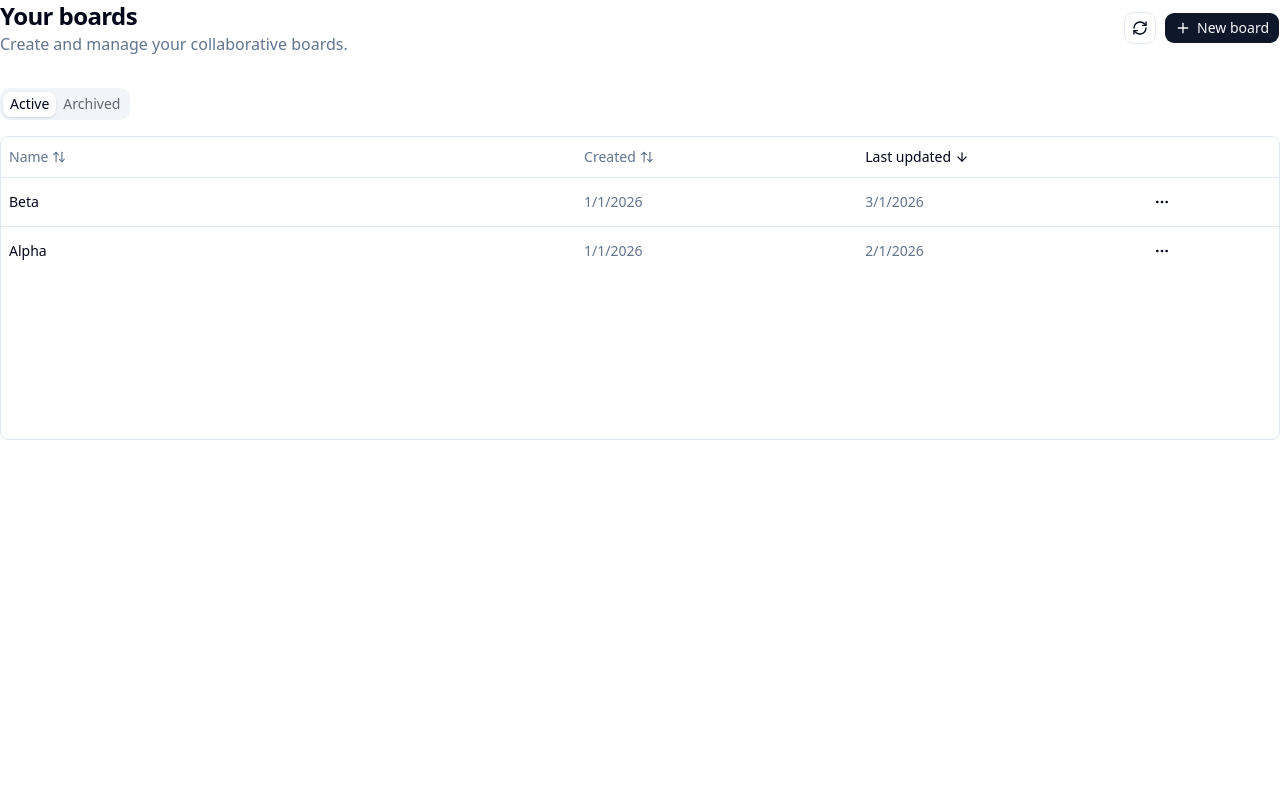
Test: DashboardPage integration › cancels the delete dialog without deleting
Expected: the button "Alpha" is shown, [9,240,568,260]
Click the button named "Board actions" in the row of "2/1/2026": (1162, 250) [1146,234,1178,266]
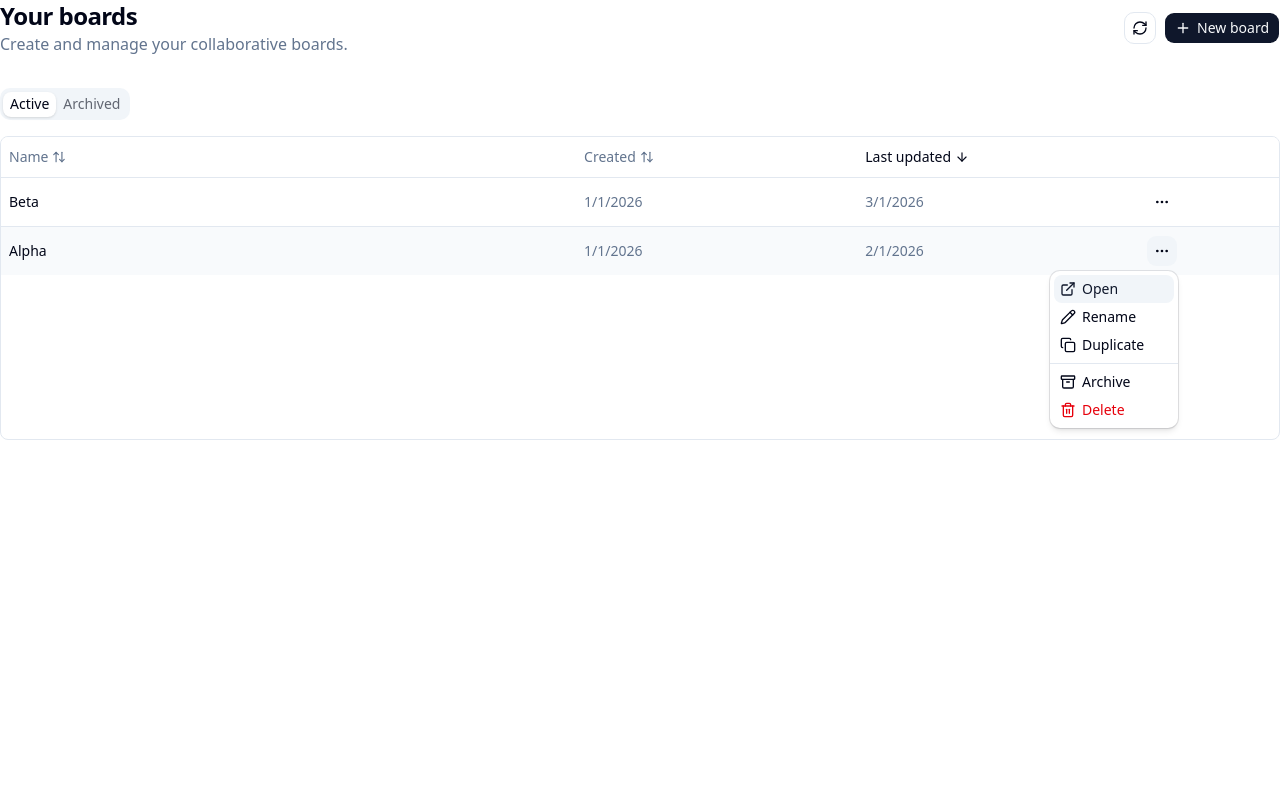
Result: the menu is shown at [1050,271,1178,428]
Click the menu item "Delete": (1092, 410) [1060,400,1125,419]
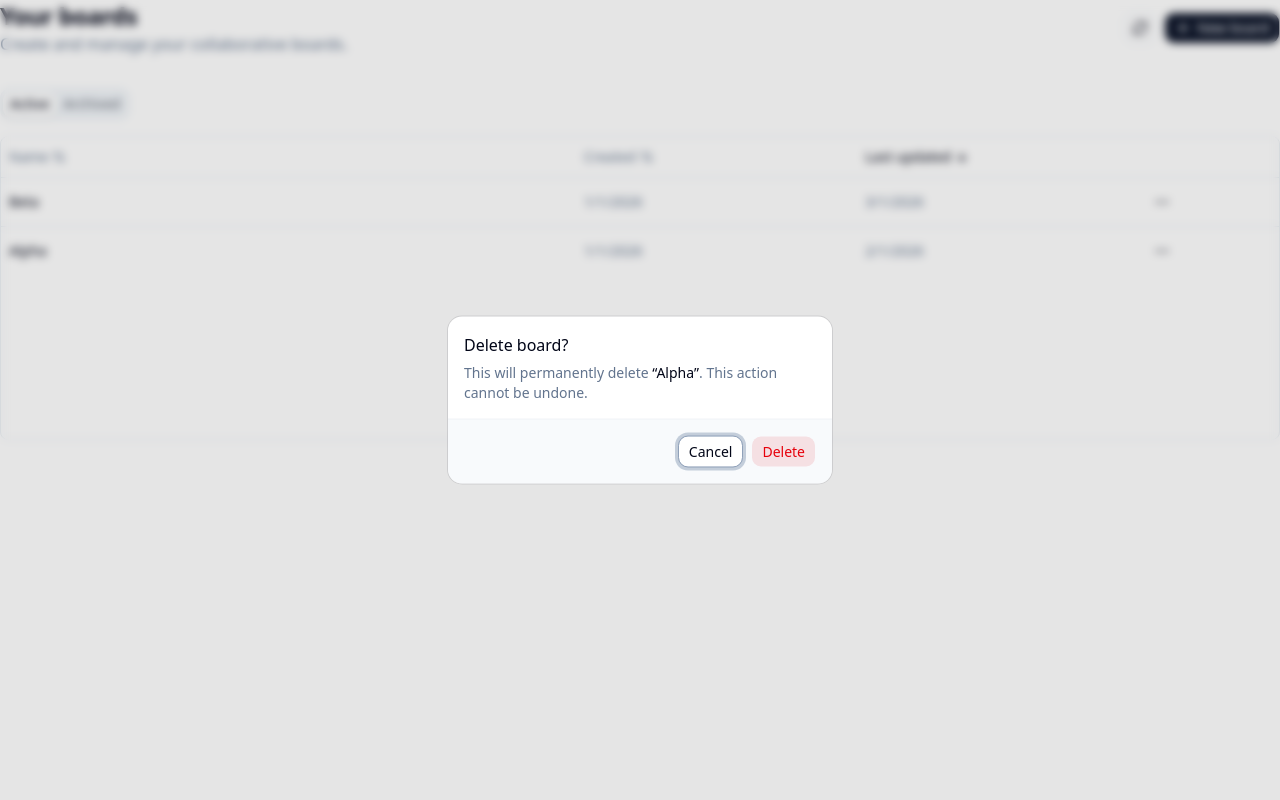
Click the button "Cancel": (711, 452) [678,436,743,468]
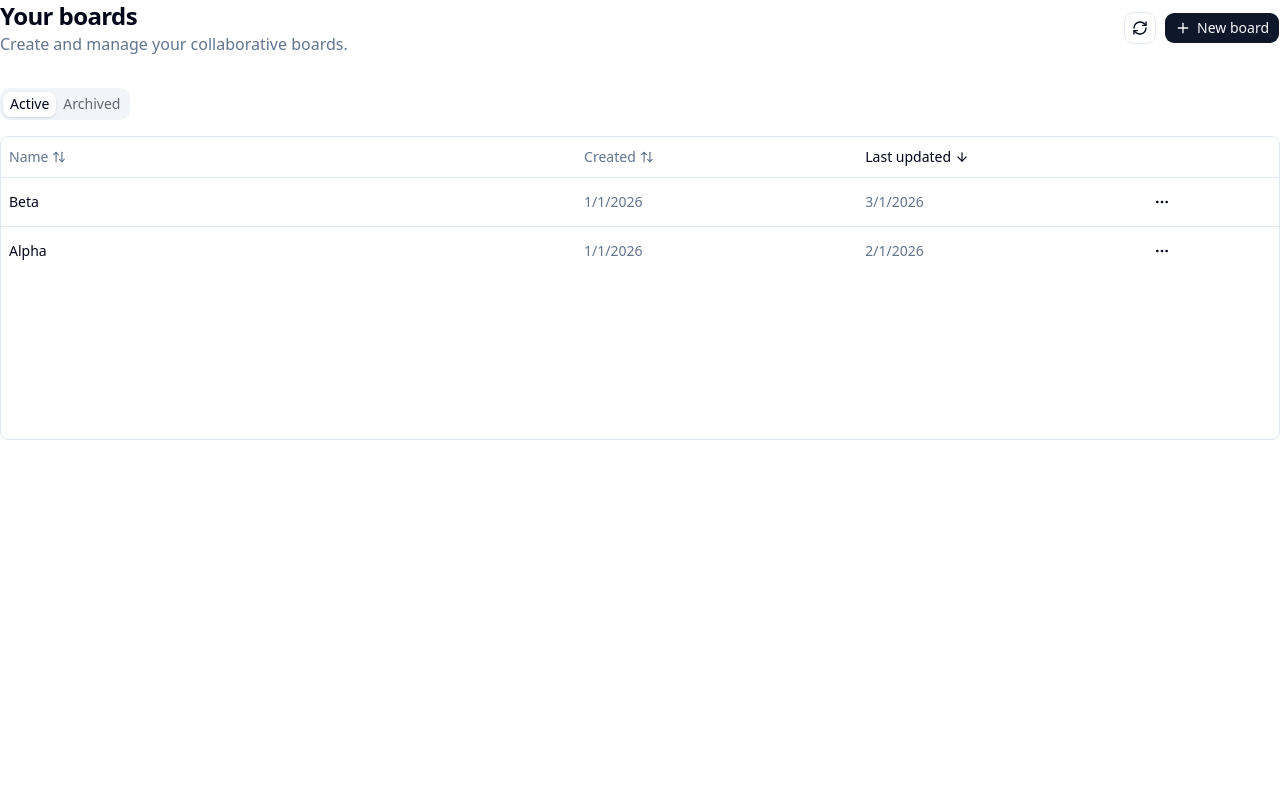
Result: the dialog is gone
